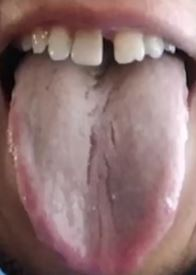baitaishe: (8, 51, 189, 275)
liewenshe: (82, 67, 121, 238)
